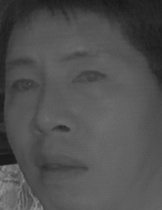eye: (69, 66, 110, 87), (7, 75, 40, 96)
mouth: (30, 148, 92, 183)
